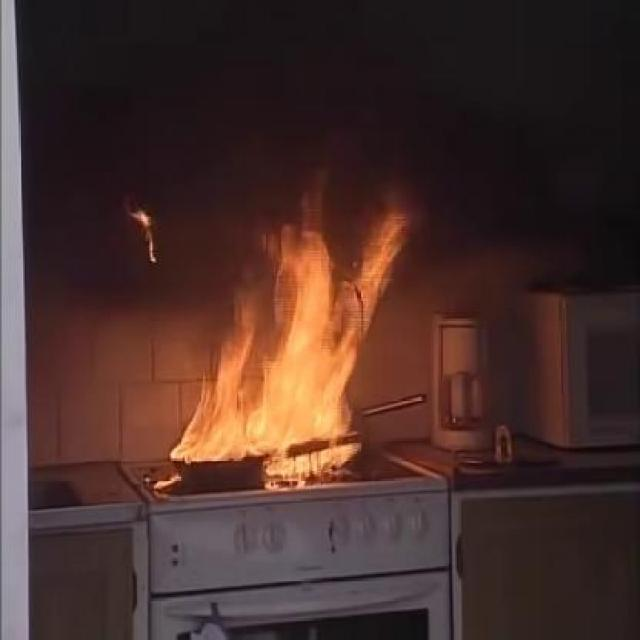fire: (185, 220, 386, 449)
